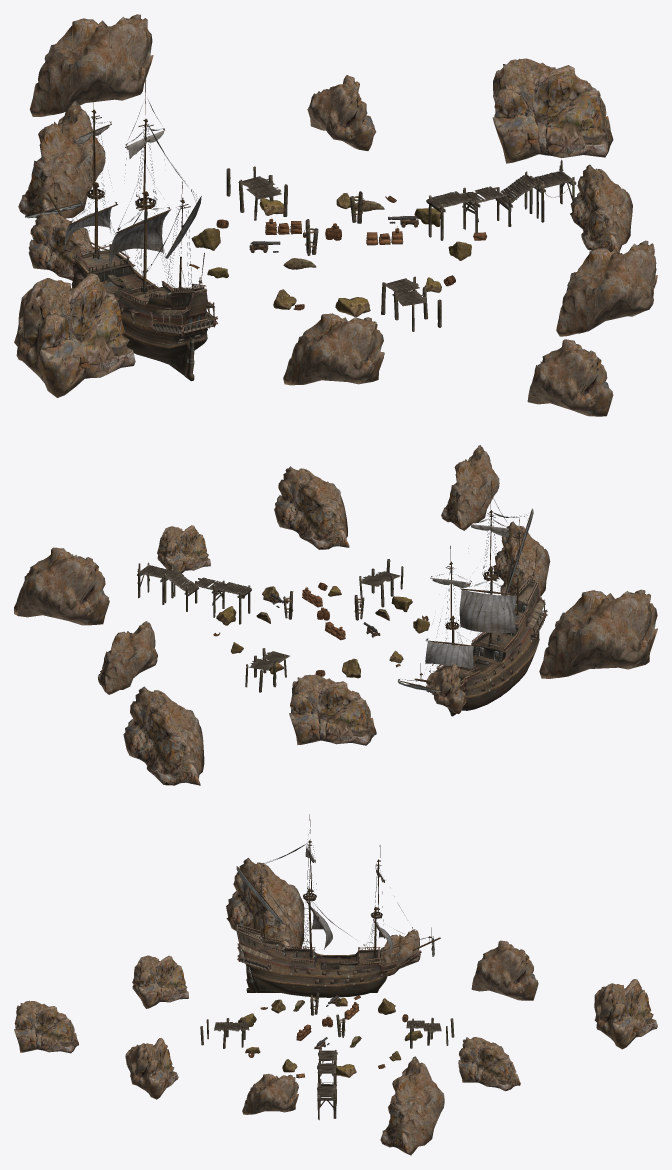
File: harbour.glb
3 views of the same model, one above another, from view 1: azimuth 30°, elevation 25°; view 2: azimuth 150°, elevation 25°; view 3: azimuth 270°, elevation 25° (orthographic). The views are drawn at different scales.
Visible parts, largest first — view 1: back; view 2: back; view 3: back.
Boxes of the visible parts, x1=… form: back: x1=14, y1=14, x2=657, y2=416; back: x1=14, y1=445, x2=657, y2=785; back: x1=14, y1=814, x2=657, y2=1155.
Bounding box in the file's own units: 88.28 × 32.08 × 105.
19 materials, 17 textured.
